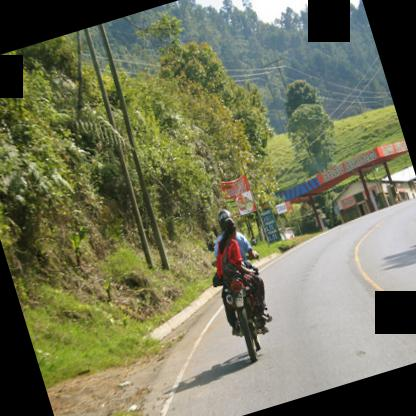handbag: (222, 238, 240, 280)
